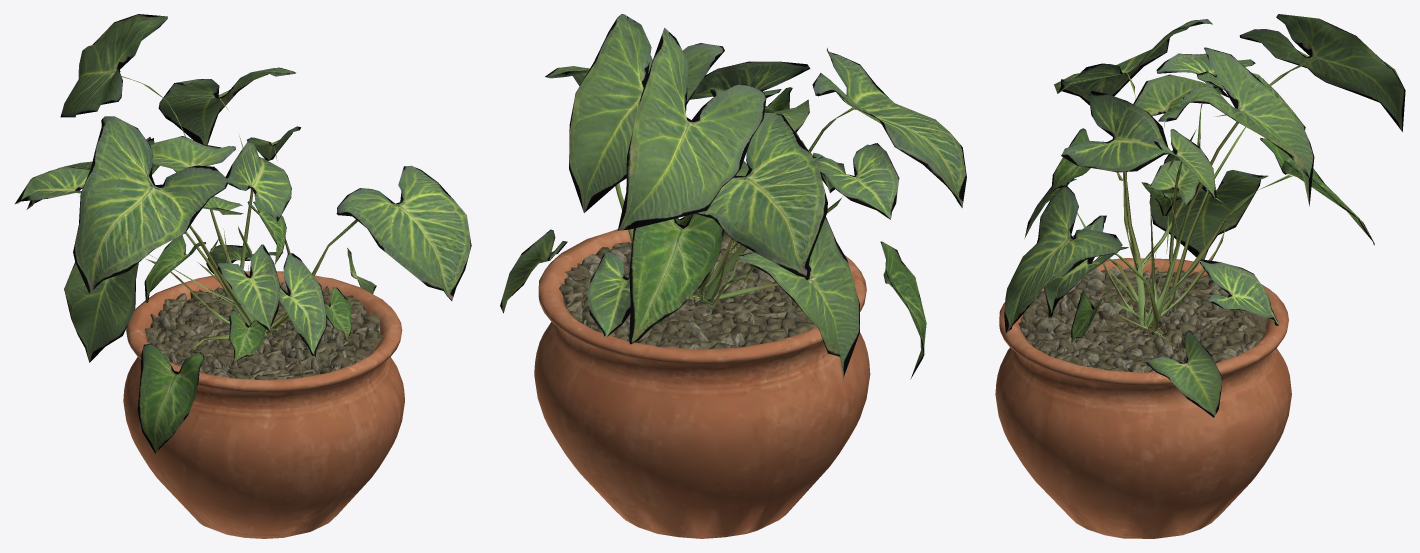
File: potted_plant_02.glb
The picture shows the model from 3 angles, left to right: view 1: azimuth 30°, elevation 25°; view 2: azimuth 150°, elevation 25°; view 3: azimuth 270°, elevation 25°; orthographic projection. The views are drawn at different scales.
Visible parts, largest first — view 1: potted_plant_02_leaves, potted_plant_02_pot; view 2: potted_plant_02_leaves, potted_plant_02_pot; view 3: potted_plant_02_pot, potted_plant_02_leaves.
Boxes of the visible parts, left/top/right/bottom form: potted_plant_02_leaves: left=15, top=14, right=471, bottom=453; potted_plant_02_pot: left=123, top=271, right=404, bottom=538; potted_plant_02_leaves: left=500, top=14, right=966, bottom=379; potted_plant_02_pot: left=534, top=228, right=870, bottom=538; potted_plant_02_pot: left=995, top=258, right=1291, bottom=538; potted_plant_02_leaves: left=1004, top=14, right=1405, bottom=417.
Bounding box in the file's own units: 0.7009 × 0.8397 × 0.6558.
2 materials, 2 textured.
